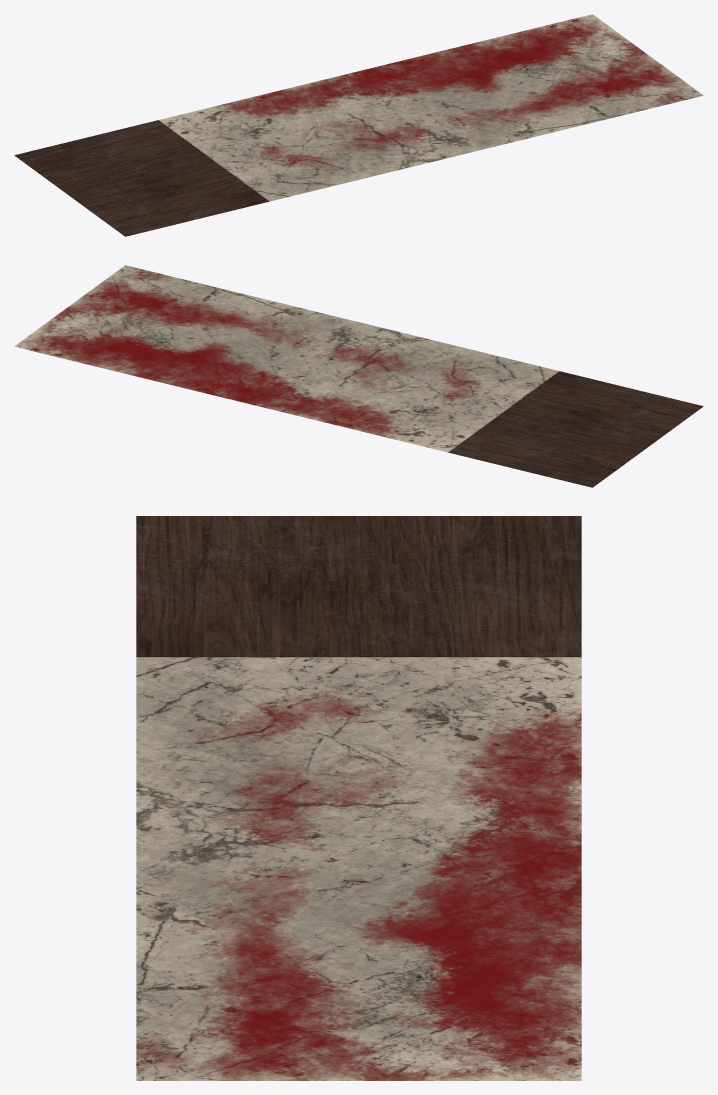
Rendered from bloody-floor.glb.
3 renders of one model, top to bottom at view 1: azimuth 30°, elevation 25°; view 2: azimuth 150°, elevation 25°; view 3: azimuth 270°, elevation 25°, orthographic. The views are drawn at different scales.
Parts seen in each view (by area): view 1: g; view 2: g; view 3: g.
Boxes of the visible parts, x1=… form: g: x1=14, y1=14, x2=703, y2=236; g: x1=14, y1=265, x2=703, y2=487; g: x1=136, y1=516, x2=581, y2=1080.
Bounding box in the file's own units: 2 × 2.91e-08 × 0.6667.
1 material, 1 textured.
